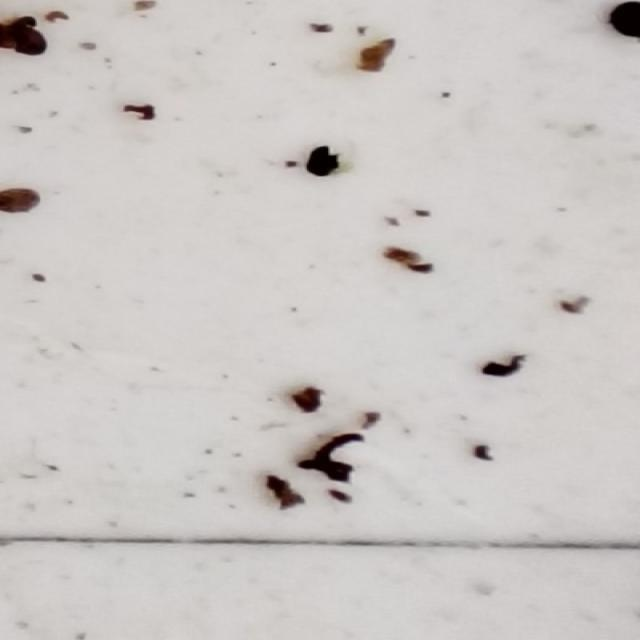varroa: (1, 19, 49, 54), (304, 145, 346, 181), (609, 1, 639, 44)
